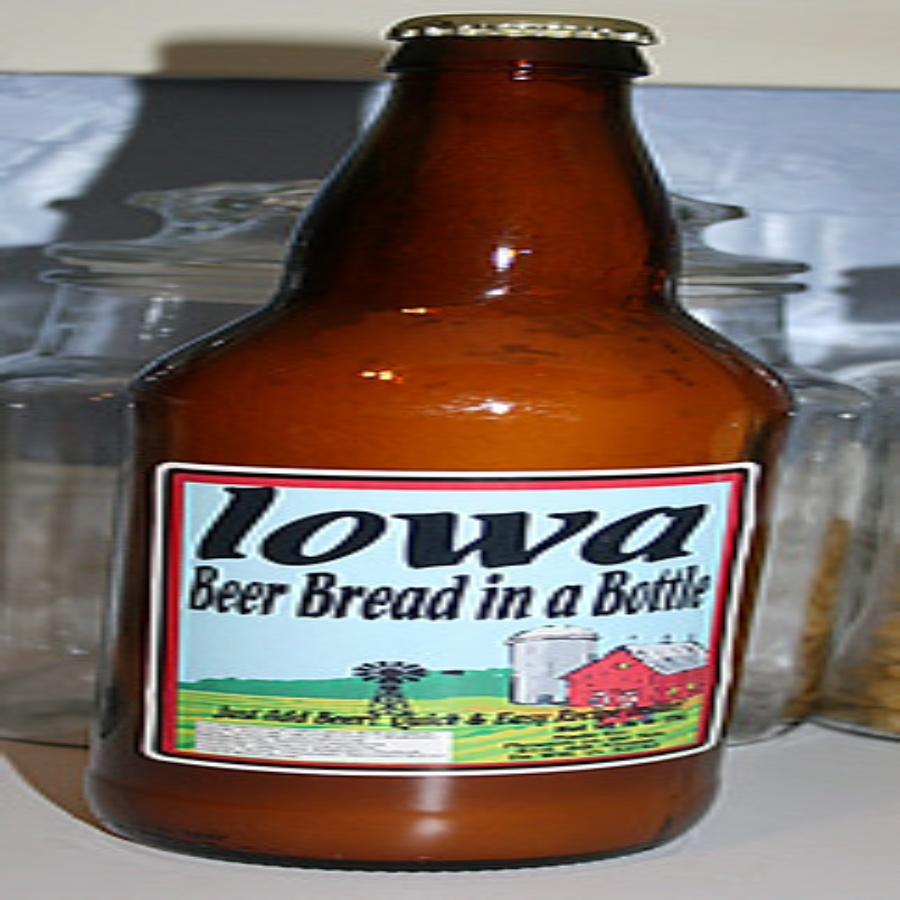beer: (98, 1, 737, 848)
